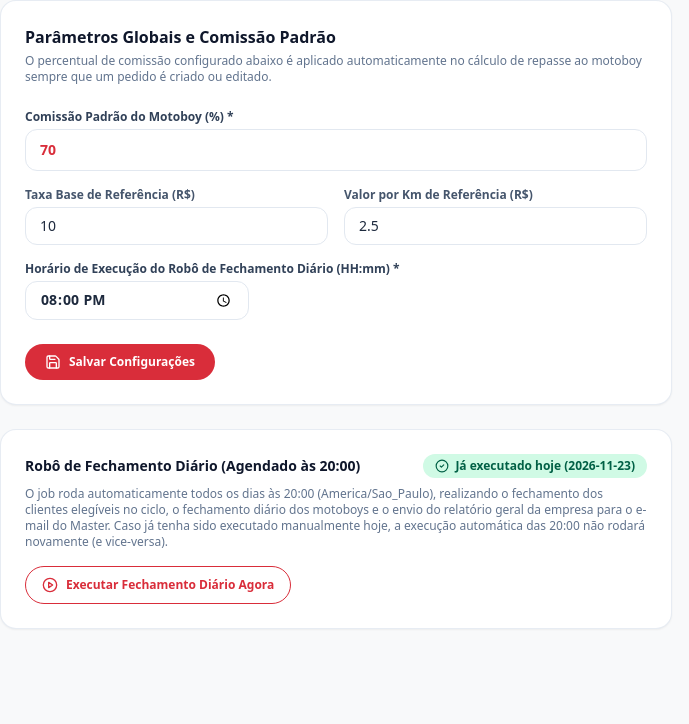
Scenario: SettingsScreen - Daily Job Execution Flag & Alert › should display alert warning and prevent execution when daily job was already executed today
Check: the text "Já executado hoje (2026-11-23)" is shown, box [423,454,647,478]
# When user clicks "Executar Fechamento Diário Agora", an alert message is shown
Click the button "Executar Fechamento Diário Agora" at (158, 585), box [25,566,291,604]
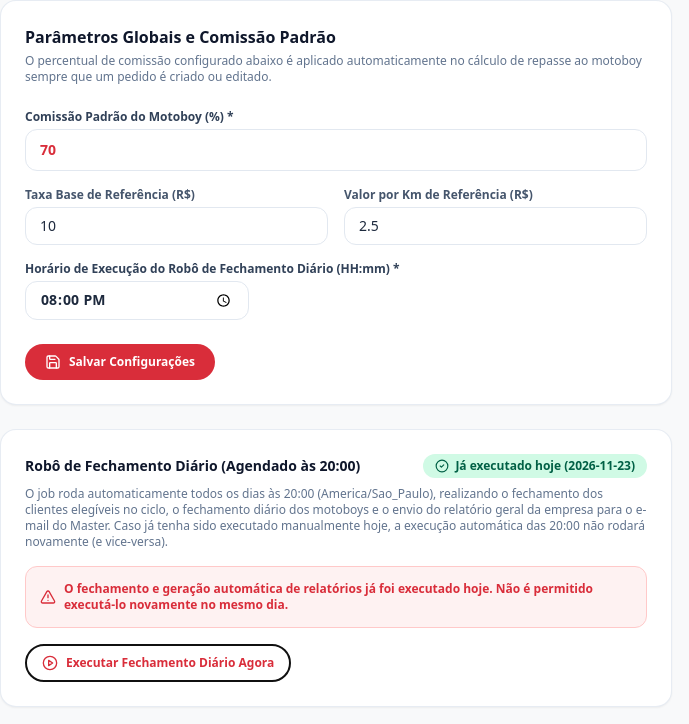
Check: the text "já foi executado hoje" is shown, box [64,580,593,613]
